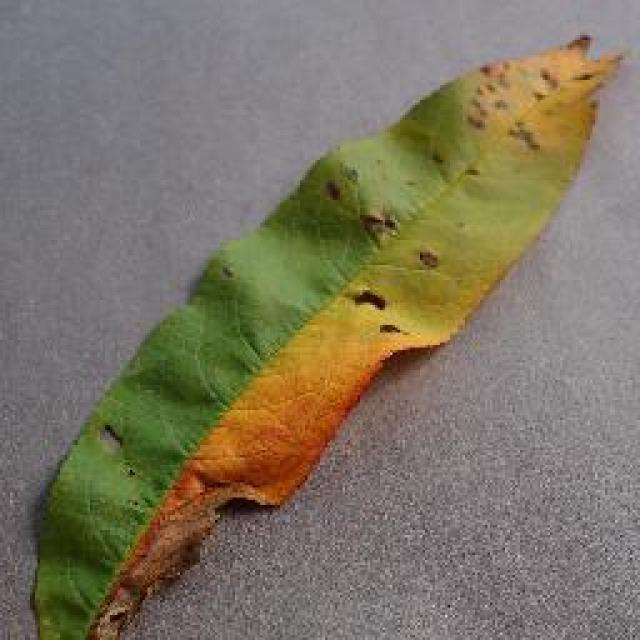Peach_Bacterial_Spot: (270, 44, 640, 358)
